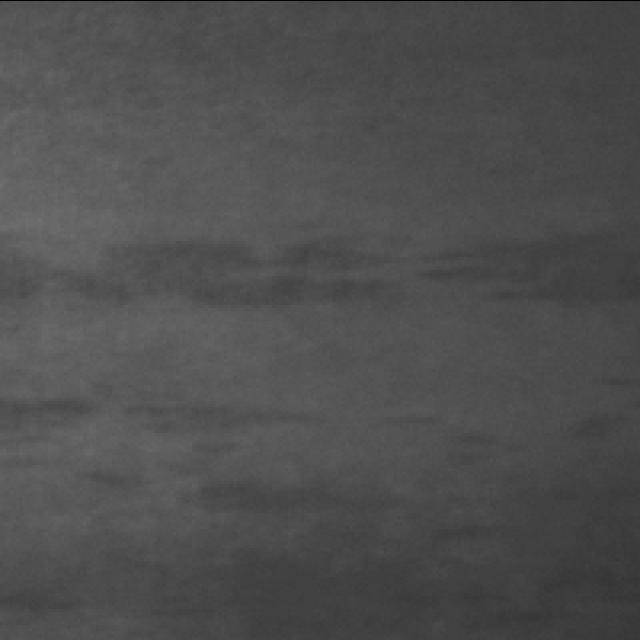inclusion: (86, 225, 398, 334), (422, 226, 626, 318), (180, 469, 407, 536), (141, 389, 305, 446), (0, 380, 96, 458), (424, 504, 532, 558), (358, 399, 460, 436)
